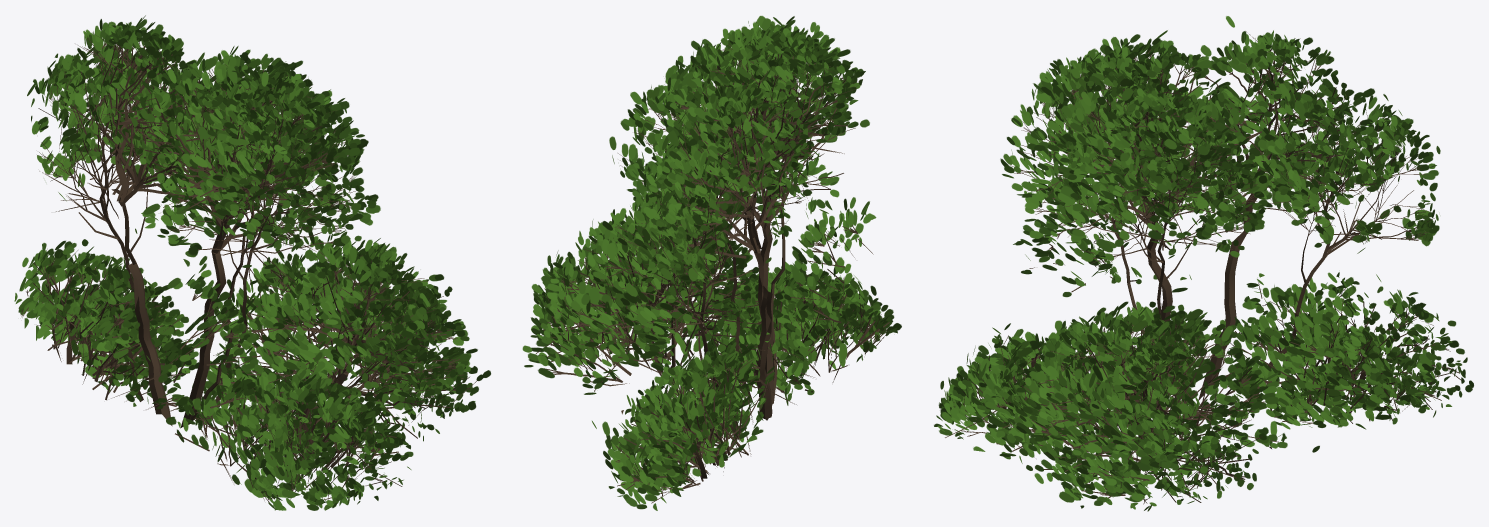
3 views of the same model, side by side, from view 1: azimuth 30°, elevation 25°; view 2: azimuth 150°, elevation 25°; view 3: azimuth 270°, elevation 25° (orthographic). The views are drawn at different scales.
Visible parts, largest first — view 1: oak 01.001_trunk_Mat.001_0.191; view 2: oak 01.001_trunk_Mat.001_0.191; view 3: oak 01.001_trunk_Mat.001_0.191.
Part boxes in pixels (left/top/right/bottom): oak 01.001_trunk_Mat.001_0.191: left=14, top=15, right=490, bottom=510; oak 01.001_trunk_Mat.001_0.191: left=522, top=15, right=901, bottom=510; oak 01.001_trunk_Mat.001_0.191: left=934, top=16, right=1473, bottom=511.
Bounding box in the file's own units: 3.85 × 4.85 × 6.08.
2 materials, 1 textured.
